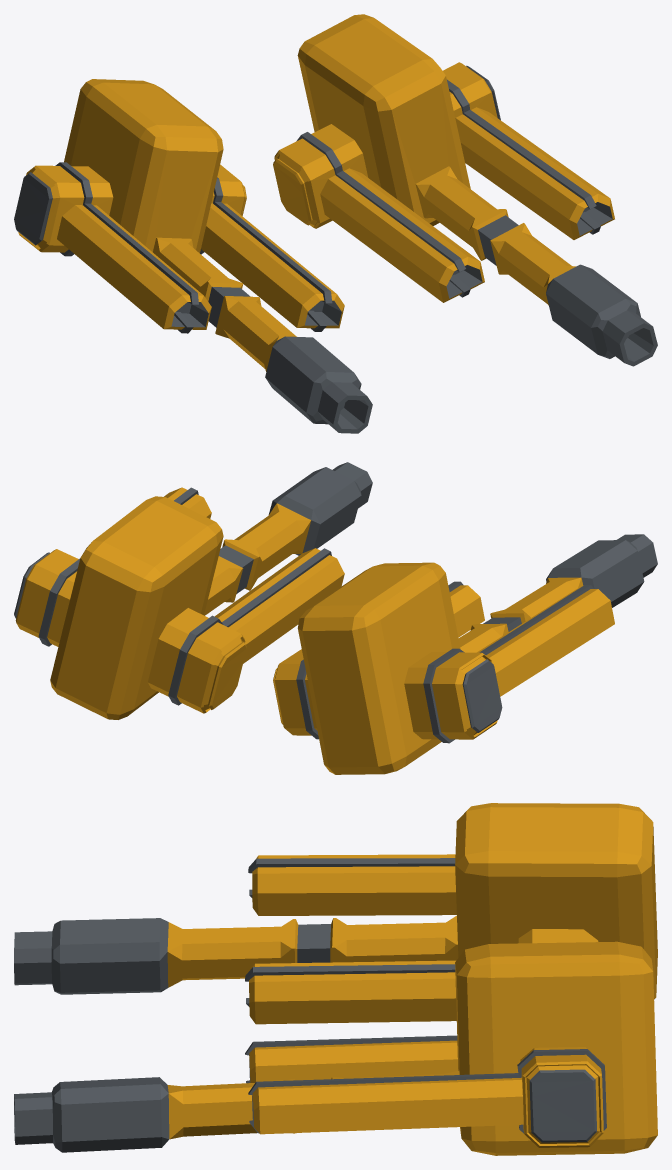
Rendered from Fighter_09_Artillery_Yellow.fbx.
3 views of the same model, one above another, from view 1: azimuth 30°, elevation 25°; view 2: azimuth 150°, elevation 25°; view 3: azimuth 270°, elevation 25° (orthographic). The views are drawn at different scales.
Visible parts, largest first — view 1: Fighter_09_Artillery_Yellow; view 2: Fighter_09_Artillery_Yellow; view 3: Fighter_09_Artillery_Yellow.
Boxes of the visible parts, x1,y1,x2,y2 form: Fighter_09_Artillery_Yellow: [14, 14, 657, 433]; Fighter_09_Artillery_Yellow: [14, 462, 657, 774]; Fighter_09_Artillery_Yellow: [14, 803, 657, 1155].
Size of the model in its own units: 303 by 106 by 315.
Materials: 1 (1 with a texture image).
